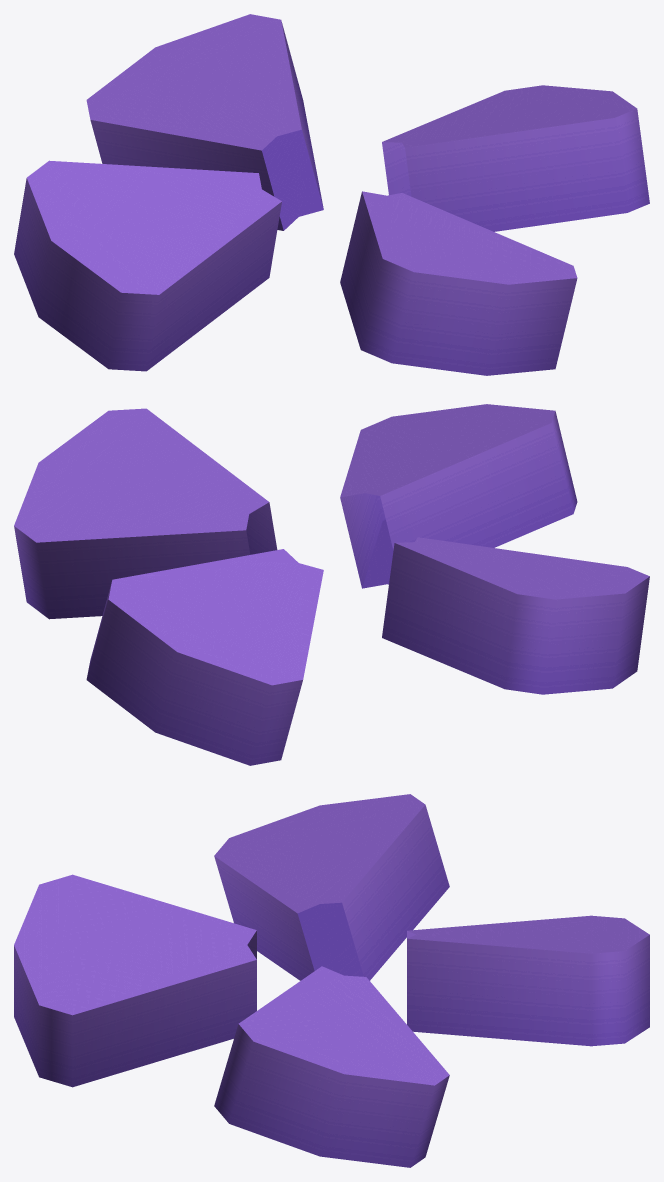
File: fan-alt-col.glb
The picture shows the model from 3 angles, top to bottom: view 1: azimuth 30°, elevation 25°; view 2: azimuth 150°, elevation 25°; view 3: azimuth 270°, elevation 25°; orthographic projection. The views are drawn at different scales.
Visible parts, largest first — view 1: fan-alt-col; view 2: fan-alt-col; view 3: fan-alt-col.
Boxes of the visible parts, x1=… form: fan-alt-col: x1=14, y1=14, x2=649, y2=375; fan-alt-col: x1=14, y1=404, x2=649, y2=765; fan-alt-col: x1=14, y1=794, x2=649, y2=1167.
Size of the model in its own units: 0.6765 by 0.1568 by 0.6765.
Materials: 1 (1 with a texture image).
